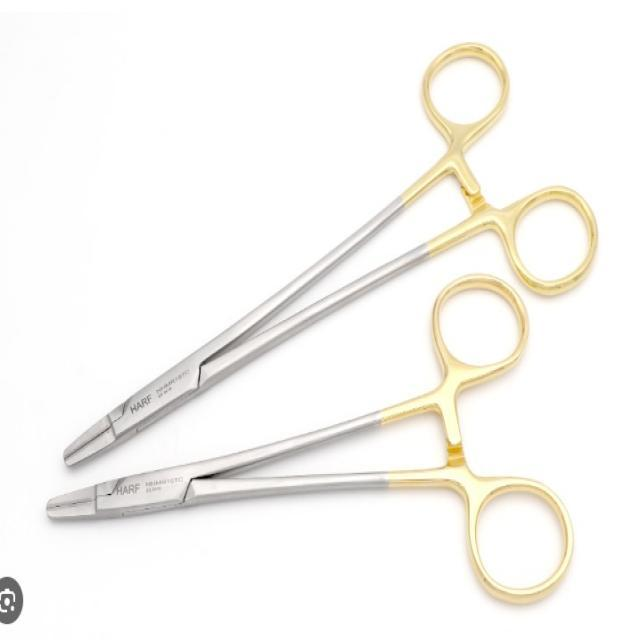Needle Holder: (62, 41, 603, 470), (43, 276, 577, 610)
